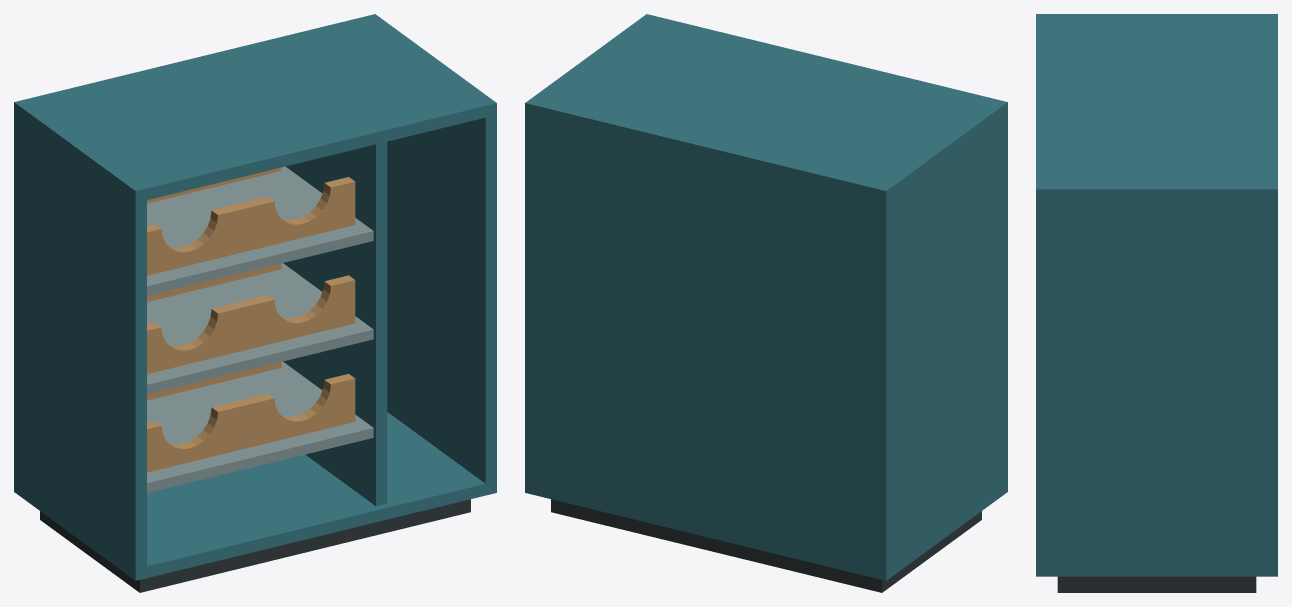
The picture shows the model from 3 angles, left to right: view 1: azimuth 30°, elevation 25°; view 2: azimuth 150°, elevation 25°; view 3: azimuth 270°, elevation 25°; orthographic projection.
Parts seen in each view (by area): view 1: LeftSide, FullRoof, RightSide, LowerDeck, TallBayDivider, Shelf_0, Shelf_1, Shelf_2, TwinNotch_2_Front, TwinNotch_0_Front, TwinNotch_1_Front, FullGroundPlinth (+3 smaller); view 2: FullRearPanel, LeftSide, FullRoof, LowerDeck, RightSide, FullGroundPlinth; view 3: RightSide, FullRoof, FullGroundPlinth, LowerDeck, FullRearPanel, LeftSide.
Boxes of the visible parts, x1,y1,x2,y2 form: LeftSide: (14,99,146,568); FullRoof: (32,21,485,199); RightSide: (364,14,496,483); LowerDeck: (14,412,496,580); TallBayDivider: (283,141,387,506); Shelf_0: (147,361,373,492); Shelf_1: (147,263,373,394); Shelf_2: (147,166,373,295); TwinNotch_2_Front: (147,177,355,275); TwinNotch_0_Front: (147,374,355,472); TwinNotch_1_Front: (147,275,355,373); FullGroundPlinth: (40,499,470,592); FullRearPanel: (536,101,880,566); LeftSide: (875,99,1007,568); FullRoof: (543,17,995,183); LowerDeck: (525,480,1007,580); RightSide: (525,14,657,483); FullGroundPlinth: (551,499,981,592); RightSide: (1036,183,1277,564); FullRoof: (1036,19,1264,183); FullGroundPlinth: (1057,576,1256,592); LowerDeck: (1036,565,1277,576); FullRearPanel: (1265,19,1277,183); LeftSide: (1036,14,1277,19).
Size of the model in its own units: 0.96 by 1.05 by 0.56.
